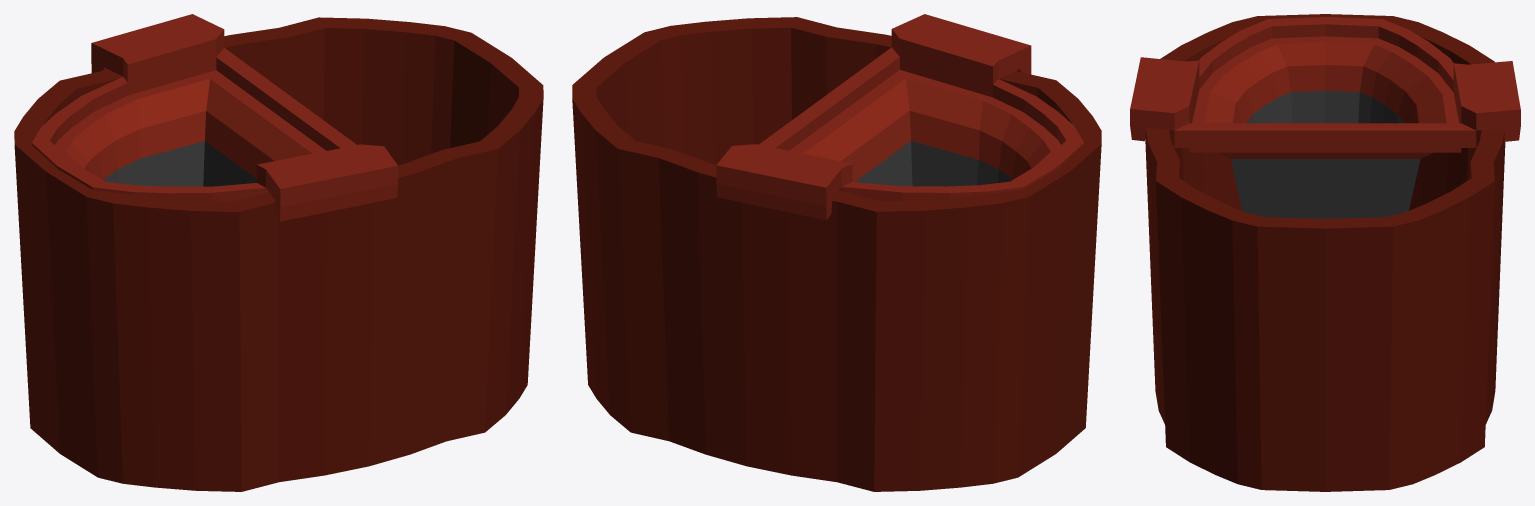
File: Mop Bucket.fbx
3 views of the same model, side by side, from view 1: azimuth 30°, elevation 25°; view 2: azimuth 150°, elevation 25°; view 3: azimuth 270°, elevation 25° (orthographic). The views are drawn at different scales.
Parts seen in each view (by area): view 1: Mop Bucket; view 2: Mop Bucket; view 3: Mop Bucket.
Part boxes in pixels (bbox=[...]): Mop Bucket: bbox=[14, 14, 543, 491]; Mop Bucket: bbox=[572, 14, 1101, 491]; Mop Bucket: bbox=[1130, 14, 1520, 491].
Size of the model in its own units: 79.33 by 49.87 by 61.02.
Materials: 1 (1 with a texture image).
